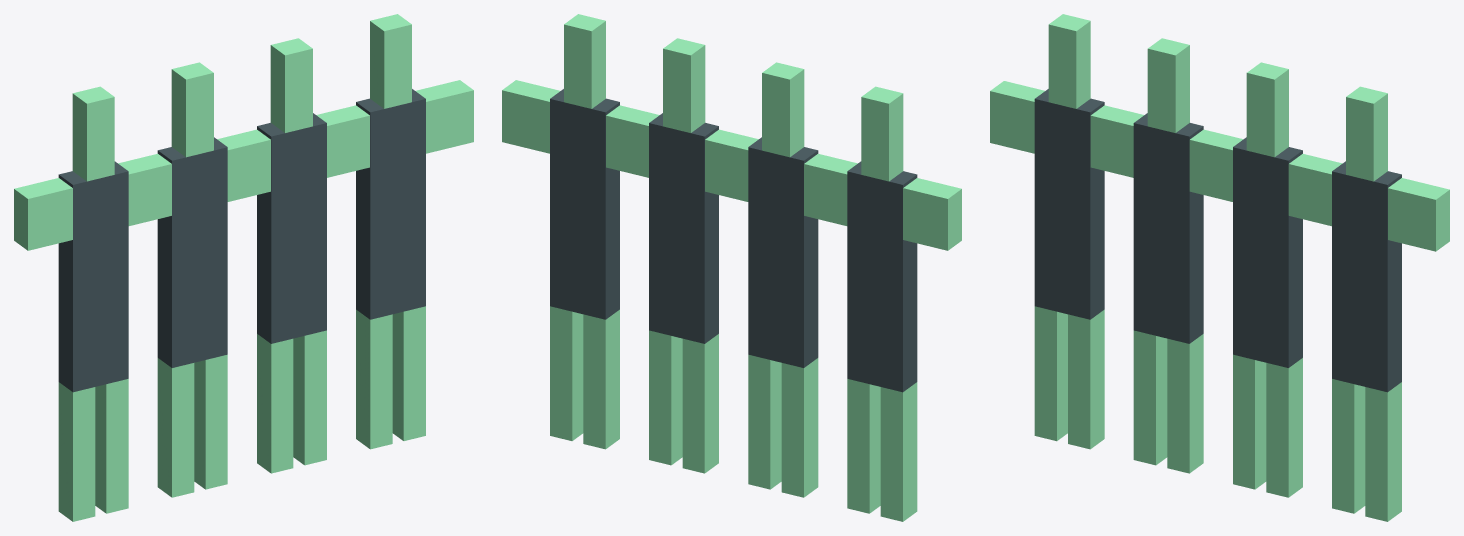
Rendered from UndeadGuard.fbx.
3 renders of one model, left to right at view 1: azimuth 30°, elevation 25°; view 2: azimuth 150°, elevation 25°; view 3: azimuth 330°, elevation 25°, orthographic.
Visible parts, largest first — view 1: Cube.016, Cube.011, Cube.001, Cube.005, Cube.018, Cube.013, Cube.008, Cube.003, Cube.012, Cube.017, Cube.002, Cube.007 (+9 smaller); view 2: Cube.016, Cube.011, Cube.001, Cube.005, Cube.018, Cube.013, Cube.008, Cube.003, Cube.012, Cube.017, Cube.002, Cube.007 (+9 smaller); view 3: Cube.011, Cube.016, Cube.001, Cube.005, Cube.012, Cube.002, Cube.017, Cube.007, Cube.013, Cube.018, Cube.008, Cube.003 (+9 smaller).
Boxes of the visible parts, x1,y1,x2,y2 form: Cube.016: (58, 161, 128, 392); Cube.011: (157, 137, 227, 367); Cube.001: (257, 113, 326, 343); Cube.005: (356, 89, 425, 319); Cube.018: (58, 382, 95, 521); Cube.013: (157, 358, 194, 497); Cube.008: (356, 309, 392, 449); Cube.003: (257, 334, 293, 473); Cube.012: (194, 354, 227, 489); Cube.017: (95, 379, 128, 513); Cube.002: (293, 330, 326, 465); Cube.007: (392, 306, 425, 440); Cube.016: (847, 161, 917, 392); Cube.011: (748, 137, 818, 367); Cube.001: (649, 113, 718, 343); Cube.005: (550, 89, 619, 319); Cube.018: (880, 382, 917, 521); Cube.013: (781, 358, 818, 497); Cube.008: (583, 309, 619, 449); Cube.003: (682, 334, 718, 473); Cube.012: (748, 354, 781, 489); Cube.017: (847, 379, 880, 513); Cube.002: (649, 330, 682, 465); Cube.007: (550, 306, 583, 440); Cube.011: (1133, 113, 1203, 343); Cube.016: (1034, 89, 1104, 319); Cube.001: (1233, 137, 1302, 367); Cube.005: (1332, 161, 1401, 392); Cube.012: (1167, 334, 1203, 473); Cube.002: (1266, 358, 1302, 497); Cube.017: (1068, 309, 1104, 449); Cube.007: (1365, 382, 1401, 521); Cube.013: (1133, 330, 1167, 465); Cube.018: (1034, 306, 1067, 441); Cube.008: (1332, 379, 1365, 513); Cube.003: (1233, 354, 1266, 489).
Bounding box in the file's own units: 180 × 160 × 10.
